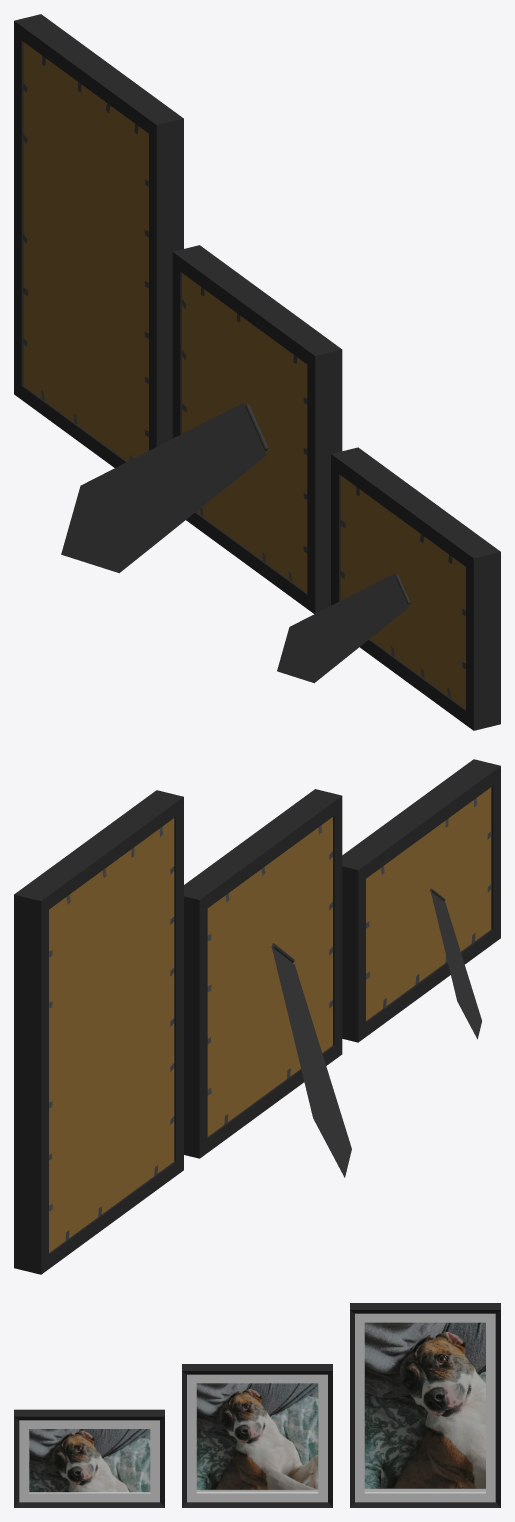
Rendered from PictureFrames.glb.
The picture shows the model from 3 angles, top to bottom: view 1: azimuth 30°, elevation 25°; view 2: azimuth 150°, elevation 25°; view 3: azimuth 270°, elevation 25°; orthographic projection. The views are drawn at different scales.
Parts seen in each view (by area): view 1: PictureFrame.002, PictureFrame, PictureFrame.001, Stand.002, Stand.001; view 2: PictureFrame.002, PictureFrame, PictureFrame.001, Stand.002, Stand.001; view 3: PictureFrame.002, PictureFrame, PictureFrame.001.
Part boxes in pixels (x1,y1,x2,y2): PictureFrame.002: (14,14,183,467); PictureFrame: (172,245,342,613); PictureFrame.001: (331,447,500,730); Stand.002: (61,402,266,573); Stand.001: (277,573,408,683); PictureFrame.002: (14,790,183,1274); PictureFrame: (184,789,342,1158); PictureFrame.001: (342,759,500,1042); Stand.002: (271,947,351,1177); Stand.001: (430,891,481,1039); PictureFrame.002: (350,1303,500,1507); PictureFrame: (182,1364,332,1507); PictureFrame.001: (14,1409,164,1507).
Bounding box in the file's own units: 0.5663 × 1.31 × 2.9.
Materials: 8 (3 with a texture image).
